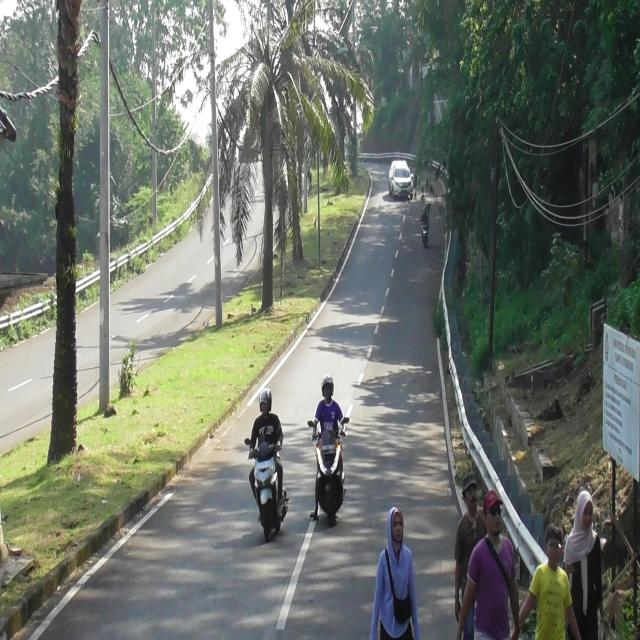motorcycle: (244, 436, 289, 537), (310, 420, 350, 528), (421, 220, 431, 246)
person: (249, 388, 283, 514), (315, 376, 345, 449), (421, 206, 431, 222)
rider_region: (245, 387, 289, 542), (312, 380, 349, 530), (420, 201, 431, 247)
